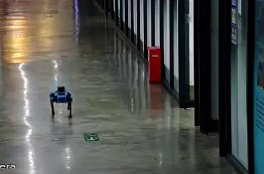robot dog: (49, 86, 74, 119)
